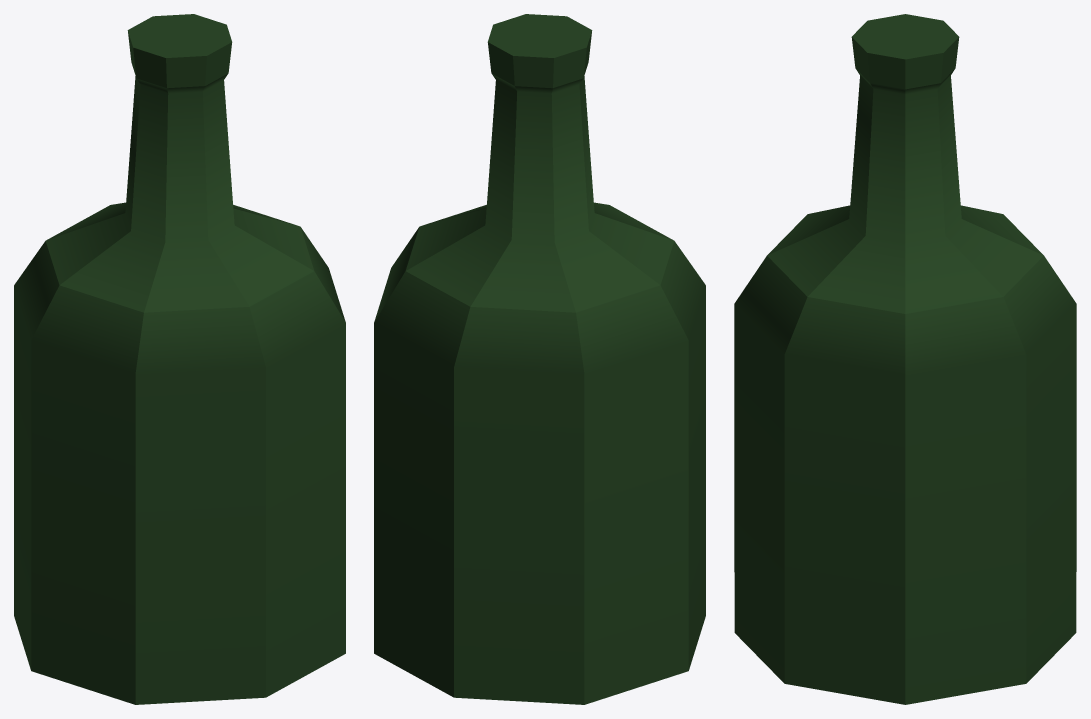
The model's file is Chonky_bottle.fbx.
3 renders of one model, left to right at view 1: azimuth 30°, elevation 25°; view 2: azimuth 150°, elevation 25°; view 3: azimuth 270°, elevation 25°, orthographic.
Visible parts, largest first — view 1: Chonky_Bottle; view 2: Chonky_Bottle; view 3: Chonky_Bottle.
Boxes of the visible parts, x1,y1,x2,y2 form: Chonky_Bottle: [14, 14, 345, 704]; Chonky_Bottle: [374, 14, 705, 704]; Chonky_Bottle: [734, 14, 1076, 704].
Bounding box in the file's own units: 0.969 × 1.86 × 0.969.
